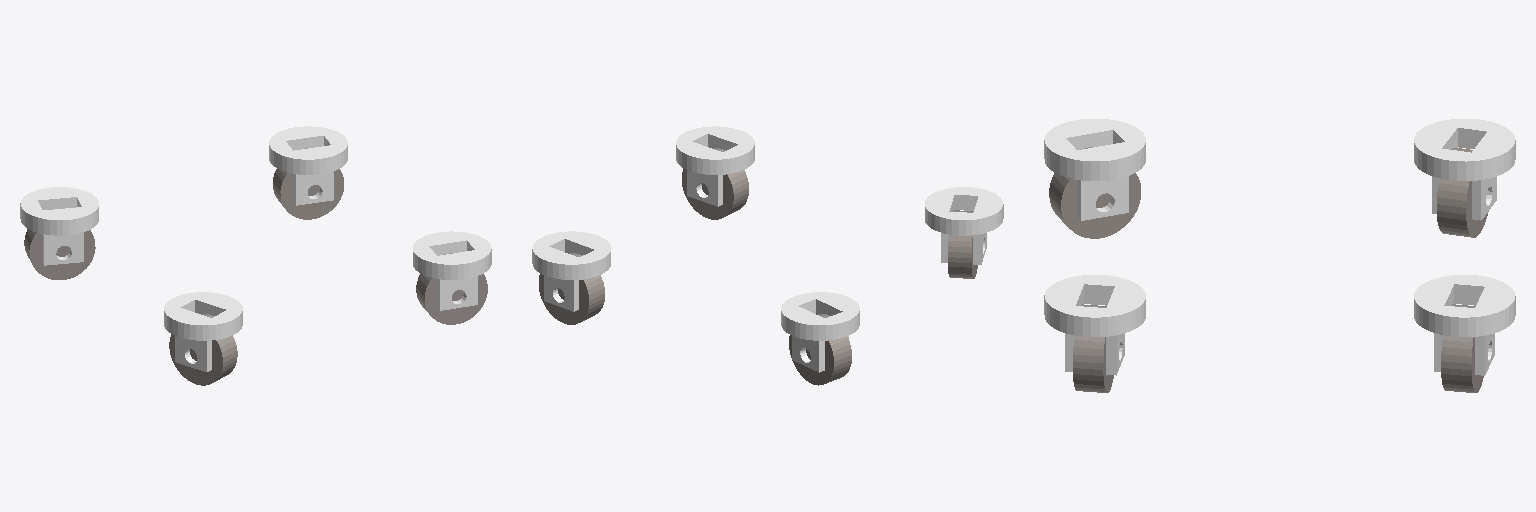
URDF robot description (swerve):
<?xml version="1.0" encoding="utf-8"?>
<!-- This URDF was automatically created by SolidWorks to URDF Exporter! Originally created by [author] ([email redacted]) 
     Commit Version: 1.6.0-4-g7f85cfe  Build Version: 1.6.7995.38578
     For more information, please see http://wiki.ros.org/sw_urdf_exporter -->
<robot
  name="swerve">
  <link
    name="base_link">
    <inertial>
      <origin
        xyz="0.2264 0.25 0.083214"
        rpy="0 0 0" />
      <mass
        value="3.0006" />
      <inertia
        ixx="0.0079644"
        ixy="1.5585E-19"
        ixz="1.8602E-19"
        iyy="0.0054382"
        iyz="1.9492E-18"
        izz="0.01286" />
    </inertial>
    <visual>
      <origin
        xyz="0 0 0"
        rpy="0 0 0" />
      <geometry>
        <mesh
          filename="package://swerve/meshes/base_link.STL" />
      </geometry>
      <material
        name="">
        <color
          rgba="0.89804 0.91765 0.92941 1" />
      </material>
    </visual>
    <collision>
      <origin
        xyz="0 0 0"
        rpy="0 0 0" />
      <geometry>
        <mesh
          filename="package://swerve/meshes/base_link.STL" />
      </geometry>
    </collision>
  </link>
  <link
    name="steer3">
    <inertial>
      <origin
        xyz="4.4409E-15 1.7208E-15 0.051772"
        rpy="0 0 0" />
      <mass
        value="0.2218" />
      <inertia
        ixx="0.00021124"
        ixy="-3.5065E-07"
        ixz="8.9284E-21"
        iyy="0.00019593"
        iyz="-7.8759E-20"
        izz="0.00027215" />
    </inertial>
    <visual>
      <origin
        xyz="0 0 0"
        rpy="0 0 0" />
      <geometry>
        <mesh
          filename="package://swerve/meshes/steer3.STL" />
      </geometry>
      <material
        name="">
        <color
          rgba="1 1 1 1" />
      </material>
    </visual>
    <collision>
      <origin
        xyz="0 0 0"
        rpy="0 0 0" />
      <geometry>
        <mesh
          filename="package://swerve/meshes/steer3.STL" />
      </geometry>
    </collision>
  </link>
  <joint
    name="steer3"
    type="continuous">
    <origin
      xyz="0.0719999999999939 0.428 0.0269999999999998"
      rpy="0 0 -0.289448210408933" />
    <parent
      link="base_link" />
    <child
      link="steer3" />
    <axis
      xyz="0 0 1" />
  </joint>
  <link
    name="wheel3">
    <inertial>
      <origin
        xyz="6.9389E-17 4.4131E-15 -1.9429E-15"
        rpy="0 0 0" />
      <mass
        value="0.76476" />
      <inertia
        ixx="0.00039462"
        ixy="3.0796E-09"
        ixz="-1.3459E-07"
        iyy="0.00039476"
        iyz="-6.4013E-06"
        izz="0.00067438" />
    </inertial>
    <visual>
      <origin
        xyz="0 0 0"
        rpy="0 0 0" />
      <geometry>
        <mesh
          filename="package://swerve/meshes/wheel3.STL" />
      </geometry>
      <material
        name="">
        <color
          rgba="0.68627 0.65882 0.63922 1" />
      </material>
    </visual>
    <collision>
      <origin
        xyz="0 0 0"
        rpy="0 0 0" />
      <geometry>
        <mesh
          filename="package://swerve/meshes/wheel3.STL" />
      </geometry>
    </collision>
  </link>
  <joint
    name="wheel3"
    type="continuous">
    <origin
      xyz="0 0 0.015"
      rpy="1.5708 1.5498 0" />
    <parent
      link="steer3" />
    <child
      link="wheel3" />
    <axis
      xyz="0 0 1" />
    <dynamics
      friction="0.4" />
  </joint>
  <link
    name="steer1">
    <inertial>
      <origin
        xyz="0 0 0.051772"
        rpy="0 0 0" />
      <mass
        value="0.2218" />
      <inertia
        ixx="0.00021125"
        ixy="2.3717E-20"
        ixz="-4.7345E-20"
        iyy="0.00019592"
        iyz="-1.0528E-20"
        izz="0.00027215" />
    </inertial>
    <visual>
      <origin
        xyz="0 0 0"
        rpy="0 0 0" />
      <geometry>
        <mesh
          filename="package://swerve/meshes/steer1.STL" />
      </geometry>
      <material
        name="">
        <color
          rgba="1 1 1 1" />
      </material>
    </visual>
    <collision>
      <origin
        xyz="0 0 0"
        rpy="0 0 0" />
      <geometry>
        <mesh
          filename="package://swerve/meshes/steer1.STL" />
      </geometry>
    </collision>
  </link>
  <joint
    name="steer1"
    type="continuous">
    <origin
      xyz="0.428 0.0719999999999983 0.0269999999999999"
      rpy="0 0 2.97398100734455" />
    <parent
      link="base_link" />
    <child
      link="steer1" />
    <axis
      xyz="0 0 1" />
  </joint>
  <link
    name="wheel1">
    <inertial>
      <origin
        xyz="-1.1102E-16 -1.1102E-16 0"
        rpy="0 0 0" />
      <mass
        value="0.76476" />
      <inertia
        ixx="0.00039462"
        ixy="-5.4634E-20"
        ixz="-3.3881E-20"
        iyy="0.00039462"
        iyz="3.0493E-20"
        izz="0.00067452" />
    </inertial>
    <visual>
      <origin
        xyz="0 0 0"
        rpy="0 0 0" />
      <geometry>
        <mesh
          filename="package://swerve/meshes/wheel1.STL" />
      </geometry>
      <material
        name="">
        <color
          rgba="0.68627 0.65882 0.63922 1" />
      </material>
    </visual>
    <collision>
      <origin
        xyz="0 0 0"
        rpy="0 0 0" />
      <geometry>
        <mesh
          filename="package://swerve/meshes/wheel1.STL" />
      </geometry>
    </collision>
  </link>
  <joint
    name="wheel1"
    type="continuous">
    <origin
      xyz="0 0 0.015"
      rpy="-1.5708 -0.77448 -3.1416" />
    <parent
      link="steer1" />
    <child
      link="wheel1" />
    <axis
      xyz="0 0 1" />
    <dynamics
      friction="0.4" />
  </joint>
  <link
    name="steer2">
    <inertial>
      <origin
        xyz="-5.55111512312578E-17 -1.11022302462516E-16 0.0517722817308295"
        rpy="0 0 0" />
      <mass
        value="0.221804775243313" />
      <inertia
        ixx="0.000211251147171327"
        ixy="-1.6940658945086E-20"
        ixz="-2.80681799882007E-20"
        iyy="0.000195922267849405"
        iyz="3.54895578353781E-20"
        izz="0.000272151766439535" />
    </inertial>
    <visual>
      <origin
        xyz="0 0 0"
        rpy="0 0 0" />
      <geometry>
        <mesh
          filename="package://swerve/meshes/steer2.STL" />
      </geometry>
      <material
        name="">
        <color
          rgba="1 1 1 1" />
      </material>
    </visual>
    <collision>
      <origin
        xyz="0 0 0"
        rpy="0 0 0" />
      <geometry>
        <mesh
          filename="package://swerve/meshes/steer2.STL" />
      </geometry>
    </collision>
  </link>
  <joint
    name="steer2"
    type="continuous">
    <origin
      xyz="0.428000000000003 0.427999999999998 0.0269999999999999"
      rpy="0 0 2.94603516749401" />
    <parent
      link="base_link" />
    <child
      link="steer2" />
    <axis
      xyz="0 0 1" />
  </joint>
  <link
    name="wheel2">
    <inertial>
      <origin
        xyz="-0.0128179063296511 -0.0126768007527251 4.44089209850063E-16"
        rpy="0 0 0" />
      <mass
        value="0.764764182848668" />
      <inertia
        ixx="0.000394618318349911"
        ixy="-2.56227466544426E-20"
        ixz="-7.16589873377138E-19"
        iyy="0.000394618318349911"
        iyz="4.81114714040443E-19"
        izz="0.000674522009272522" />
    </inertial>
    <visual>
      <origin
        xyz="0 0 0"
        rpy="0 0 0" />
      <geometry>
        <mesh
          filename="package://swerve/meshes/wheel2.STL" />
      </geometry>
      <material
        name="">
        <color
          rgba="0.686274509803922 0.658823529411765 0.63921568627451 1" />
      </material>
    </visual>
    <collision>
      <origin
        xyz="0 0 0"
        rpy="0 0 0" />
      <geometry>
        <mesh
          filename="package://swerve/meshes/wheel2.STL" />
      </geometry>
    </collision>
  </link>
  <joint
    name="wheel2"
    type="continuous">
    <origin
      xyz="0.01 0 0"
      rpy="-1.5708 1.3789 3.1416" />
    <parent
      link="steer2" />
    <child
      link="wheel2" />
    <axis
      xyz="0 0 1" />
    <dynamics
      friction="0.4" />
  </joint>
  <link
    name="steer4">
    <inertial>
      <origin
        xyz="6.93889390390723E-18 0 0.0517722817308295"
        rpy="0 0 0" />
      <mass
        value="0.221804775243313" />
      <inertia
        ixx="0.000210007818064125"
        ixy="-4.18485060341668E-06"
        ixz="4.4154238094637E-20"
        iyy="0.000197165596956607"
        iyz="2.67472215294233E-20"
        izz="0.000272151766439536" />
    </inertial>
    <visual>
      <origin
        xyz="0 0 0"
        rpy="0 0 0" />
      <geometry>
        <mesh
          filename="package://swerve/meshes/steer4.STL" />
      </geometry>
      <material
        name="">
        <color
          rgba="1 1 1 1" />
      </material>
    </visual>
    <collision>
      <origin
        xyz="0 0 0"
        rpy="0 0 0" />
      <geometry>
        <mesh
          filename="package://swerve/meshes/steer4.STL" />
      </geometry>
    </collision>
  </link>
  <joint
    name="steer4"
    type="continuous">
    <origin
      xyz="0.072 0.0719999999999996 0.027"
      rpy="0 0 2.25169507822681" />
    <parent
      link="base_link" />
    <child
      link="steer4" />
    <axis
      xyz="0 0 1" />
  </joint>
  <link
    name="wheel4">
    <inertial>
      <origin
        xyz="7.07767178198537E-16 -7.35522753814166E-16 2.63677968348475E-16"
        rpy="0 0 0" />
      <mass
        value="0.764764182848667" />
      <inertia
        ixx="0.000399446152339061"
        ixy="-9.28970422225814E-06"
        ixz="3.52380755314603E-05"
        iyy="0.000412493540391718"
        iyz="-6.78050031928476E-05"
        izz="0.000651818953241564" />
    </inertial>
    <visual>
      <origin
        xyz="0 0 0"
        rpy="0 0 0" />
      <geometry>
        <mesh
          filename="package://swerve/meshes/wheel4.STL" />
      </geometry>
      <material
        name="">
        <color
          rgba="0.686274509803922 0.658823529411765 0.63921568627451 1" />
      </material>
    </visual>
    <collision>
      <origin
        xyz="0 0 0"
        rpy="0 0 0" />
      <geometry>
        <mesh
          filename="package://swerve/meshes/wheel4.STL" />
      </geometry>
    </collision>
  </link>
  <joint
    name="wheel4"
    type="continuous">
    <origin
      xyz="0 0 0.015"
      rpy="-1.5708 1.0915 -3.1416" />
    <parent
      link="steer4" />
    <child
      link="wheel4" />
    <axis
      xyz="0 0 1" />
    <dynamics
      friction="0.4" />
  </joint>
</robot>

--- Facts derived from the render (not from the file) ---
Views: 3 orthographic renders of the robot side by side, from view 1: azimuth 30°, elevation 25°; view 2: azimuth 150°, elevation 25°; view 3: azimuth 270°, elevation 25°.
Robot: swerve — 9 links, 8 joints (8 continuous); root link base_link; default pose: every joint at zero.
Links seen in each view (by area): view 1: steer2, steer1, steer3, steer4, wheel1, wheel3, wheel2, wheel4; view 2: steer1, steer2, steer3, steer4, wheel1, wheel2, wheel3, wheel4; view 3: steer4, steer3, steer2, steer1, wheel4, wheel3, wheel2, wheel1.
Link boxes in pixels (box(x1,y1,x2,y2)): steer2: box(269, 126, 347, 205); steer1: box(413, 231, 491, 310); steer3: box(20, 187, 98, 265); steer4: box(164, 292, 242, 371); wheel1: box(416, 253, 487, 324); wheel3: box(24, 229, 95, 279); wheel2: box(273, 148, 343, 219); wheel4: box(169, 314, 237, 385); steer1: box(676, 126, 754, 206); steer2: box(532, 231, 610, 311); steer3: box(781, 292, 859, 372); steer4: box(925, 187, 1003, 264); wheel1: box(682, 148, 748, 219); wheel2: box(539, 253, 604, 324); wheel3: box(789, 314, 851, 385); wheel4: box(948, 210, 977, 278); steer4: box(1044, 119, 1145, 220); steer3: box(1414, 119, 1515, 220); steer2: box(1414, 275, 1515, 375); steer1: box(1044, 275, 1145, 375); wheel4: box(1049, 147, 1140, 238); wheel3: box(1437, 148, 1488, 237); wheel2: box(1441, 304, 1483, 392); wheel1: box(1073, 304, 1113, 392).
Size in the robot's own frame: 0.4539 by 0.454 by 0.098 metres.
8 mesh visuals loaded from 9 distinct referenced files (8 binary STL); not drawn: 1 (reference not matched to a file when rendering).